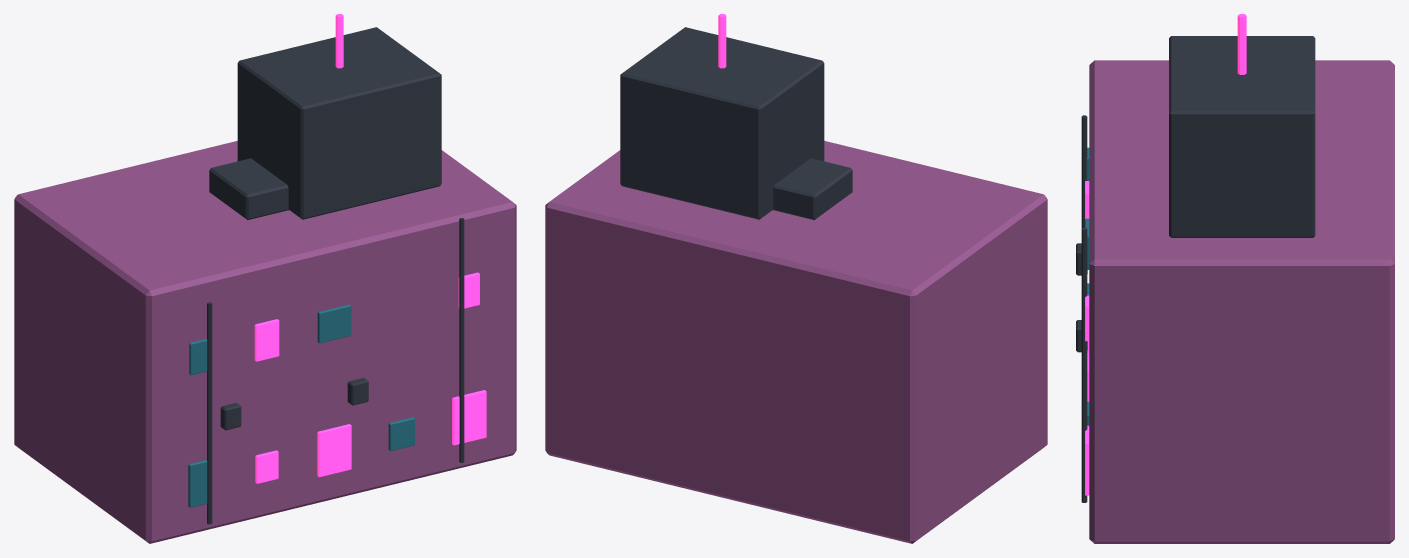
File: building_019_seed11.glb
3 renders of one model, left to right at view 1: azimuth 30°, elevation 25°; view 2: azimuth 150°, elevation 25°; view 3: azimuth 270°, elevation 25°, orthographic. The views are drawn at different scales.
Parts seen in each view (by area): view 1: building_019_seed11; view 2: building_019_seed11; view 3: building_019_seed11.
Part boxes in pixels (x1,y1,x2,y2): building_019_seed11: [14, 14, 516, 543]; building_019_seed11: [545, 14, 1047, 543]; building_019_seed11: [1076, 14, 1394, 543].
Size of the model in its own units: 7.55 by 8.13 by 5.
